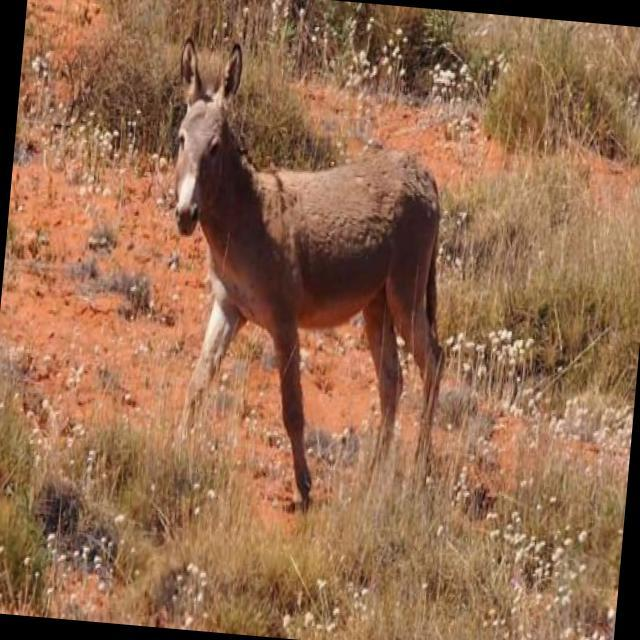Donkey: (141, 36, 472, 528)
